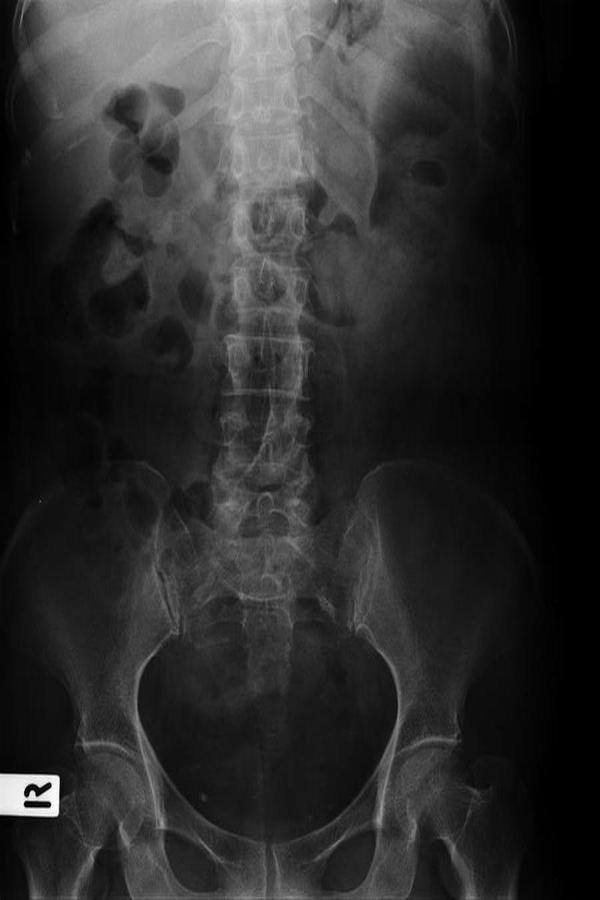lumbar scoliosis: (210, 15, 319, 582)
